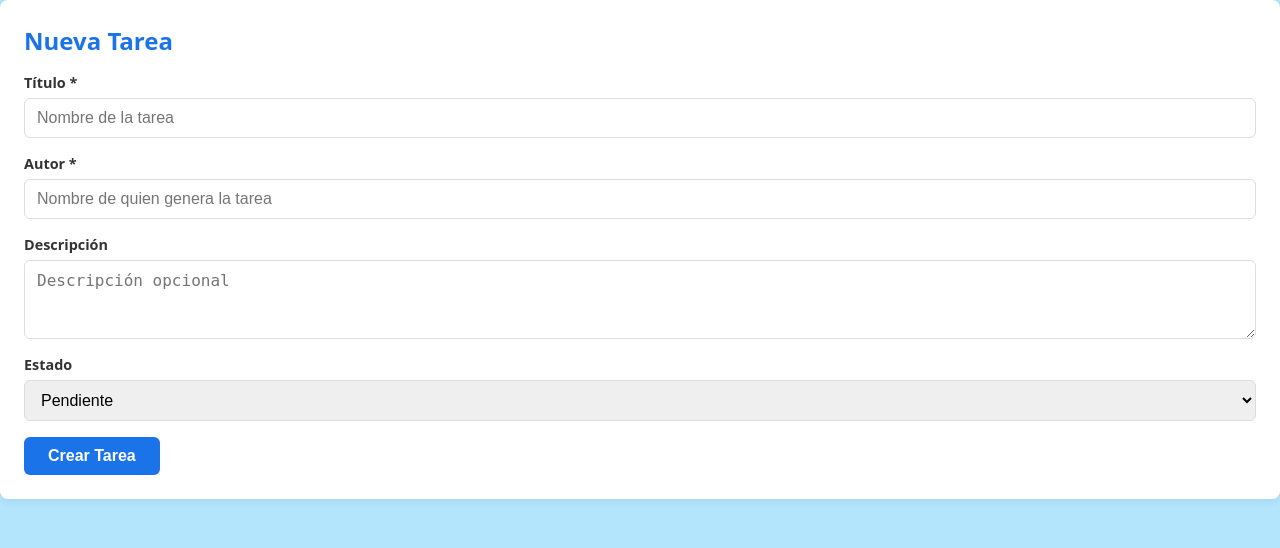
TaskForm - epi-data › muestra error si se envía sin autor
Type "Tarea epi-data" into the field labelled "Título *".
click(640, 118); type("Tarea epi-data")  # box [24, 98, 1256, 138]
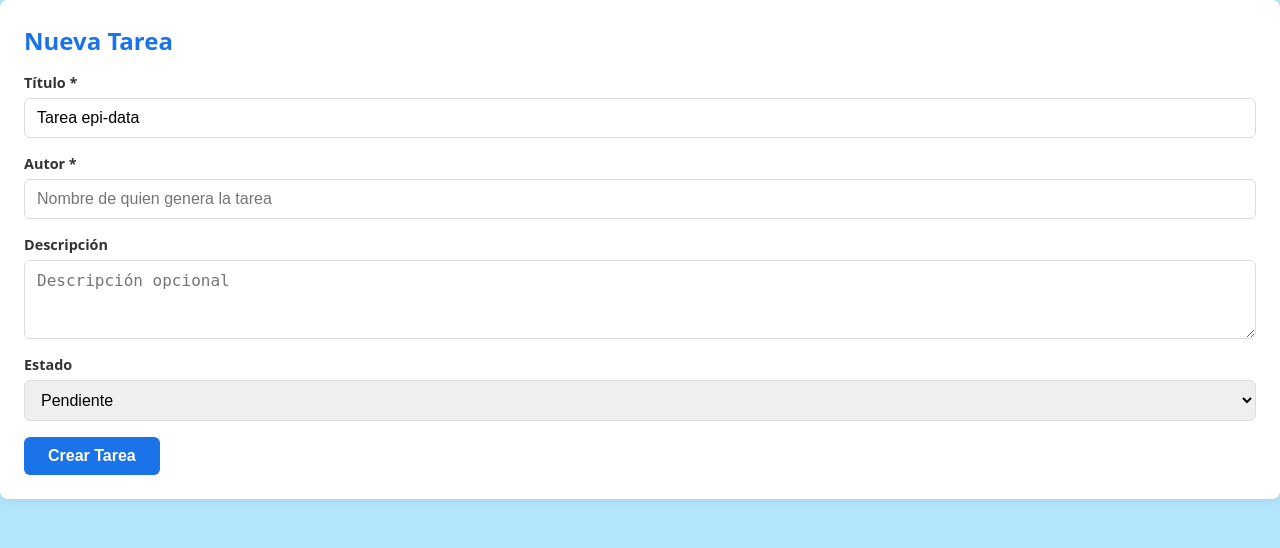
Click the button "Crear Tarea".
click(92, 456)  # box [24, 437, 160, 475]
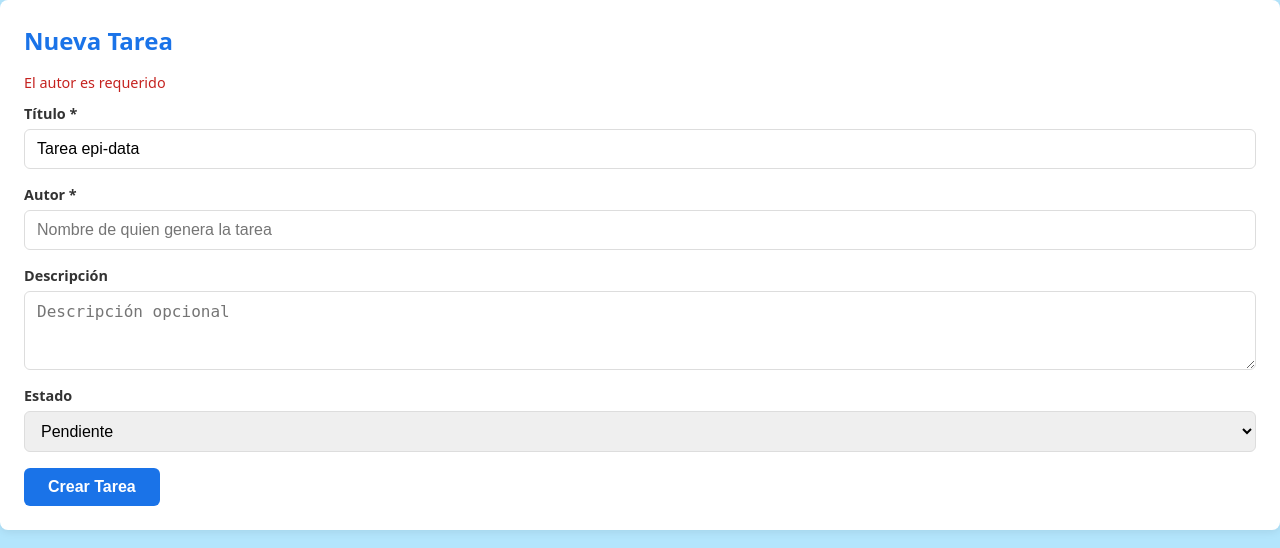
Expected: the text "El autor es requerido" is shown, [24, 73, 166, 92]
